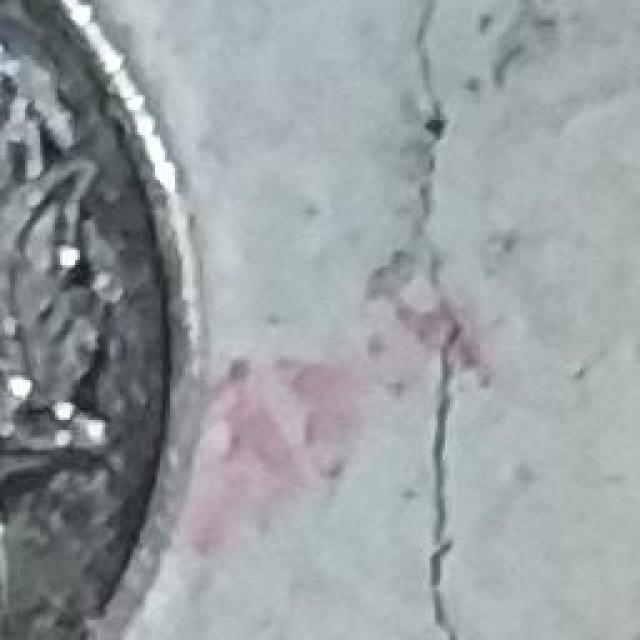Annular: (0, 0, 221, 640)
Longitudinal: (382, 0, 495, 636)
